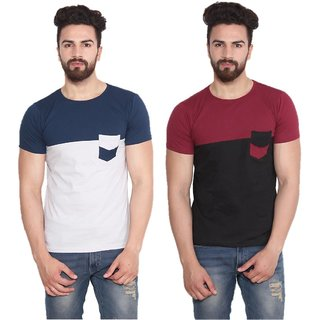T-Shirt: (15, 82, 159, 256), (163, 83, 307, 250)
